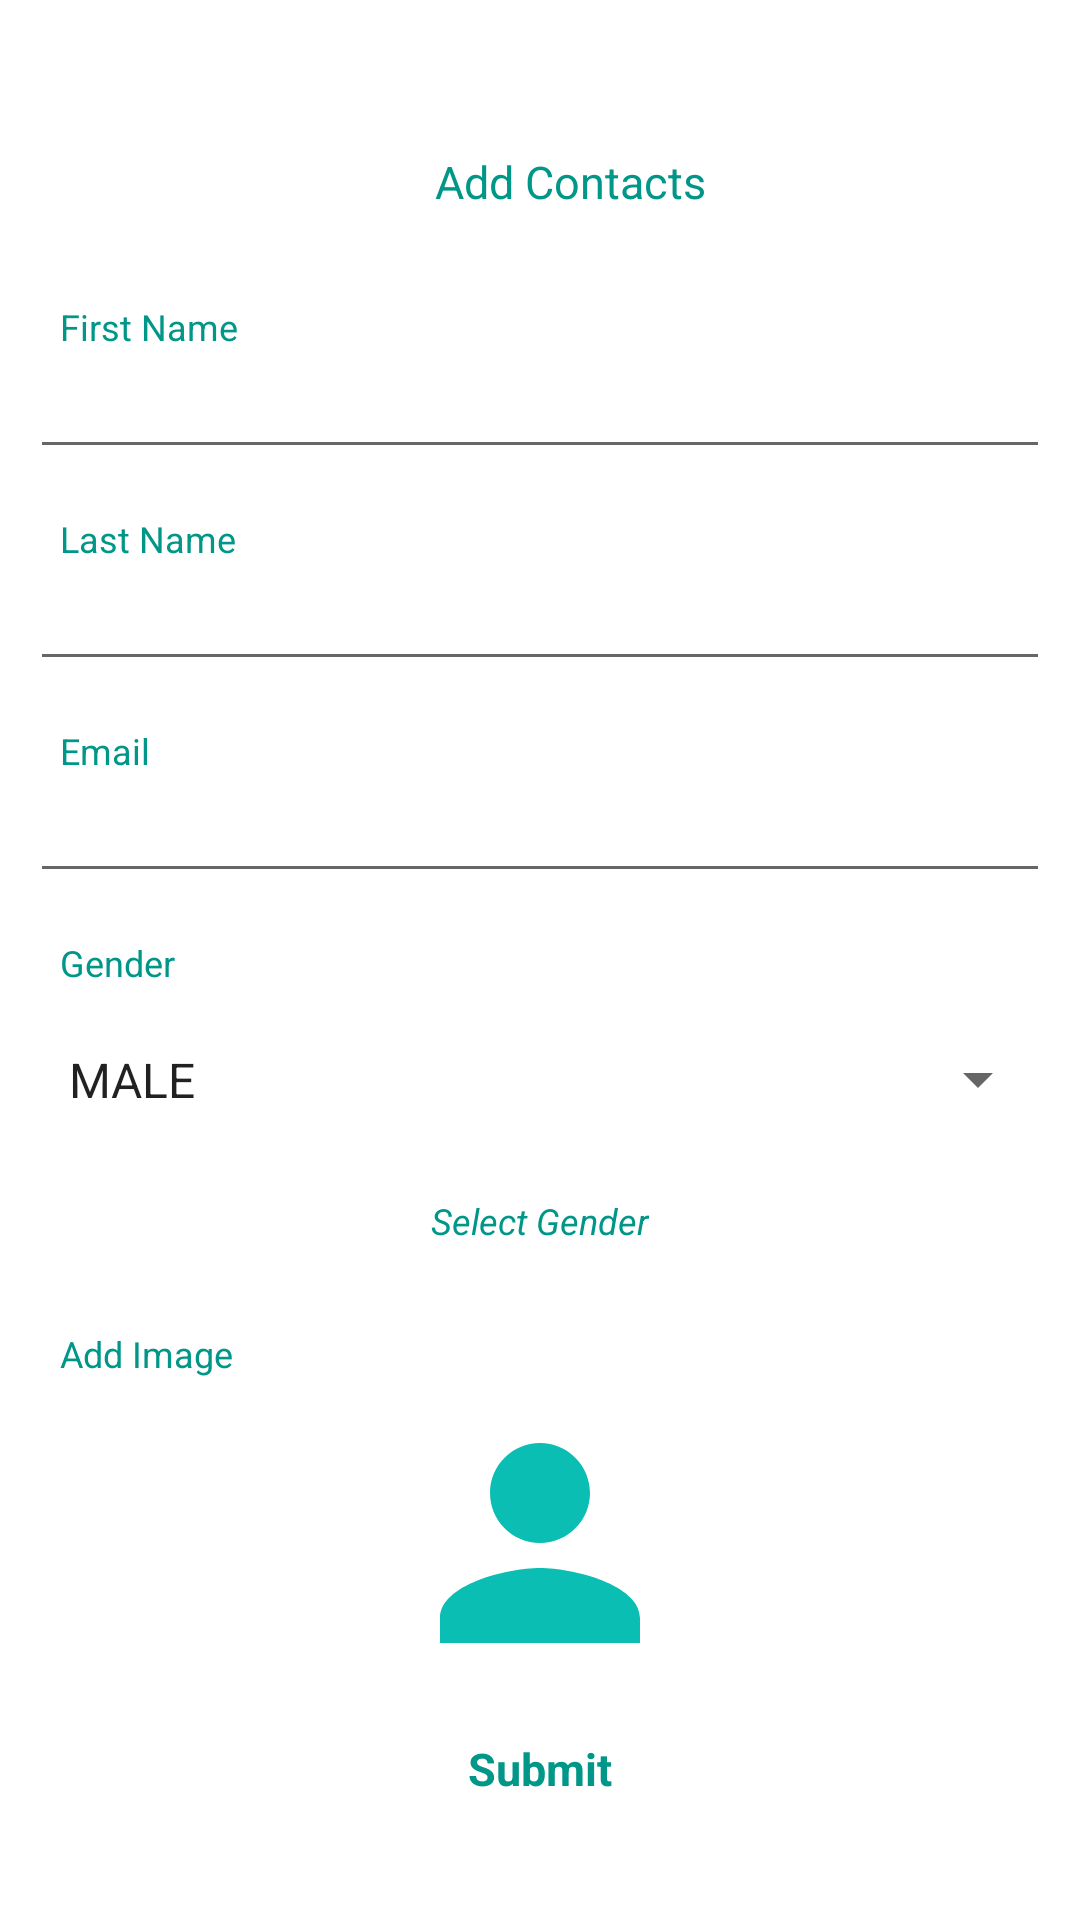

Where icons sit on this 1080px×1920px app screen, as (x1, y1, x2, y2):
person: (440, 1443, 640, 1643)
